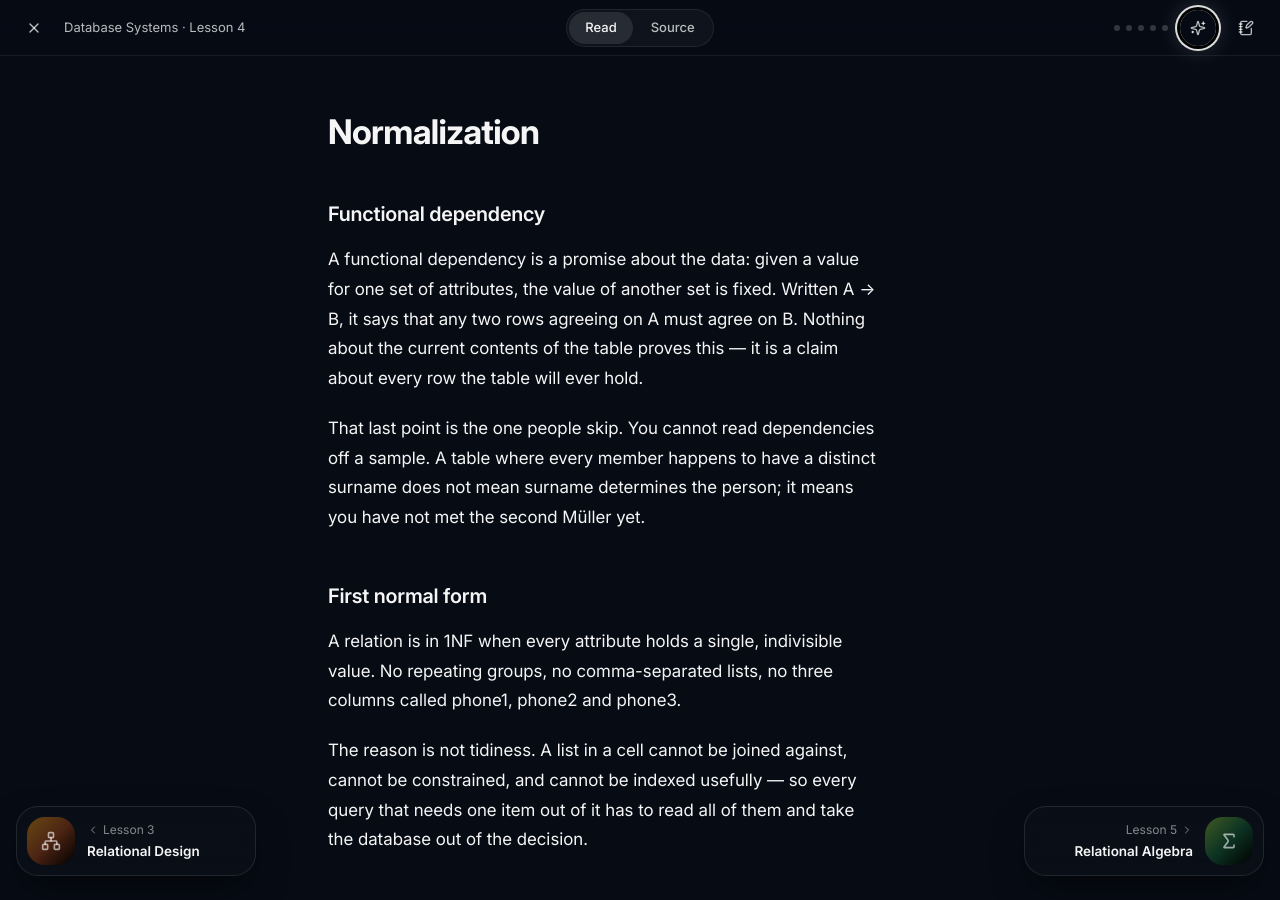
the tutor sits in the rail, on the reader › shows the marker in a Space that has grounding switched on
Expected: the header is shown, left=0, top=0, right=1279, bottom=56
Click the button named "Luna" at (1198, 28), box left=1180, top=10, right=1216, bottom=46
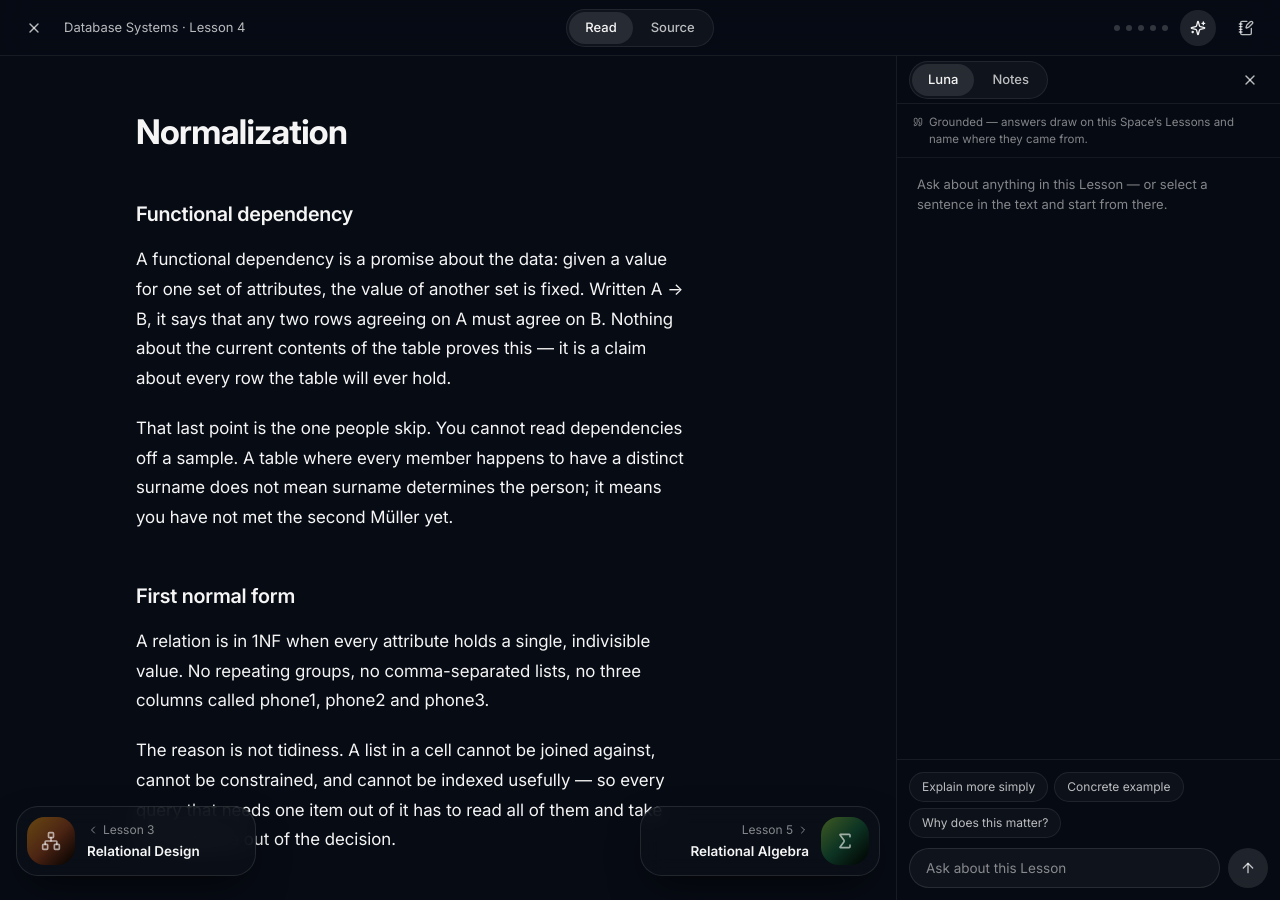
Expected: the text "Grounded — answers draw on this Space’s Lessons and name where they came from." is shown, left=897, top=104, right=1279, bottom=158
